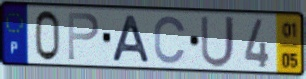0: (33, 9, 62, 62)
4: (243, 17, 272, 70)
A: (109, 13, 153, 64)
C: (152, 14, 188, 66)
P: (66, 11, 101, 63)
U: (199, 15, 237, 70)
